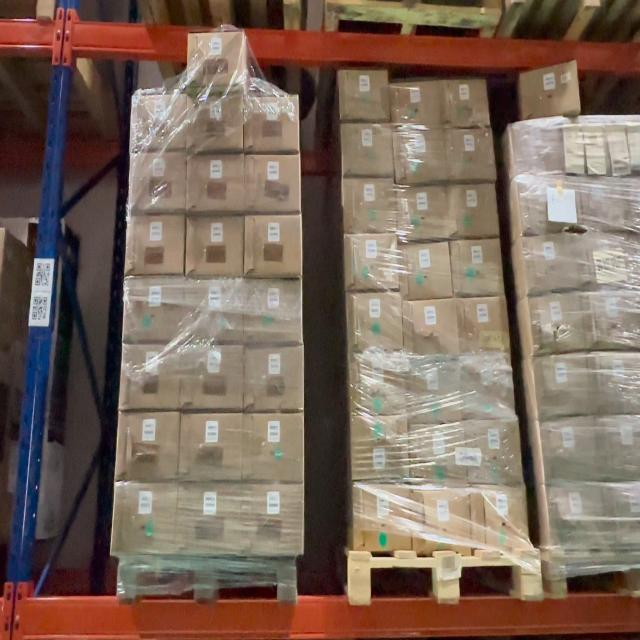box: (181, 484, 244, 554), (116, 485, 178, 554), (245, 486, 303, 554), (121, 414, 179, 479), (355, 485, 412, 551), (247, 413, 303, 480), (184, 415, 242, 479), (412, 492, 470, 552), (185, 346, 242, 407), (247, 348, 303, 410), (128, 279, 184, 341), (187, 280, 243, 341), (353, 418, 408, 480), (248, 281, 302, 343), (128, 215, 184, 274), (125, 347, 180, 407), (188, 217, 244, 275), (247, 216, 301, 276), (472, 488, 526, 547), (190, 32, 244, 89), (133, 153, 186, 211), (552, 486, 601, 548), (189, 156, 244, 211), (352, 356, 406, 412), (469, 422, 519, 482), (246, 156, 299, 212), (351, 292, 401, 350), (524, 66, 578, 118), (588, 292, 638, 348), (538, 359, 588, 415), (412, 365, 460, 423), (545, 421, 592, 480), (135, 97, 187, 150), (191, 95, 242, 149), (414, 427, 464, 482), (348, 235, 399, 288), (346, 178, 396, 232), (248, 97, 298, 151), (521, 178, 571, 232), (532, 295, 581, 350), (594, 354, 638, 415), (464, 361, 511, 418), (526, 238, 576, 290), (458, 298, 504, 354), (598, 418, 640, 479), (453, 241, 500, 295), (342, 69, 390, 121), (408, 301, 454, 355), (448, 186, 496, 237), (396, 132, 444, 183), (399, 187, 446, 239), (406, 243, 450, 297), (345, 127, 393, 176), (603, 487, 639, 550), (446, 132, 492, 181), (585, 239, 631, 288), (515, 126, 561, 174), (566, 124, 608, 174), (393, 82, 439, 126), (576, 181, 618, 228), (443, 83, 486, 126), (612, 122, 640, 175), (618, 178, 640, 230), (627, 234, 640, 287)
